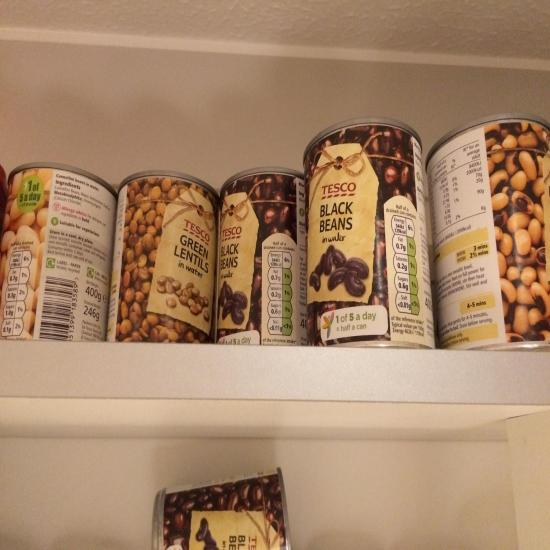Food Can: (303, 117, 436, 349), (425, 113, 550, 352), (0, 162, 117, 342), (106, 170, 220, 344), (216, 166, 307, 346), (151, 466, 292, 550)
